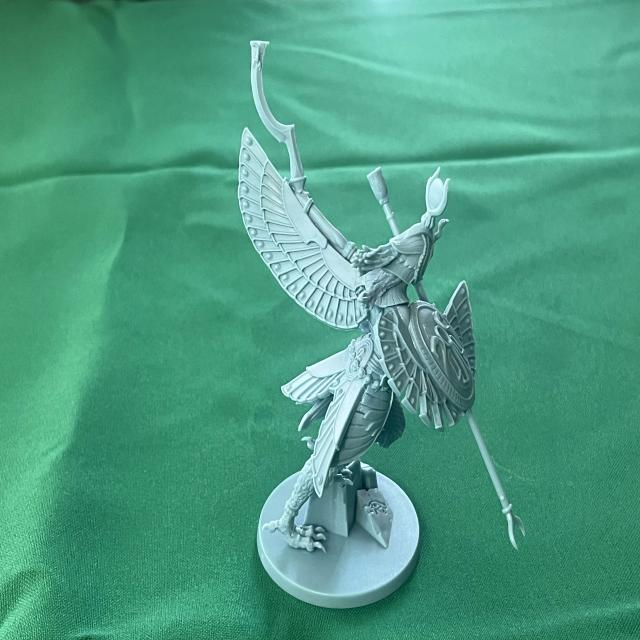isis: (223, 33, 530, 617)
